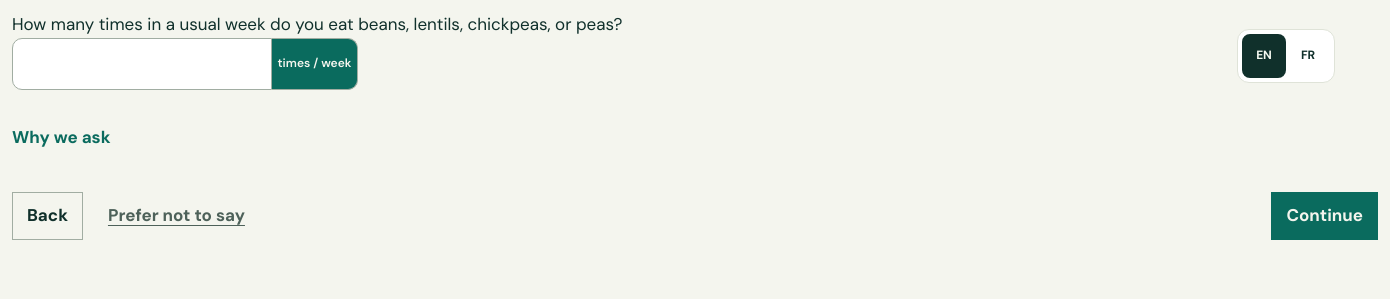
keeps an impossible diet_legumes answer on screen with a described error
The width and height of the screenshot is (1390, 299).
Type "-1" into the number field at [142, 64], box x1=12 y1=38 x2=272 y2=90
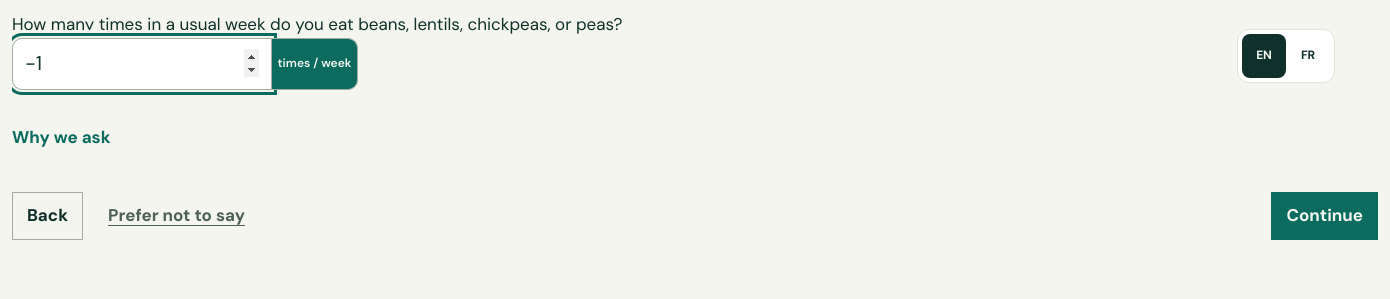
Click the button "Continue" at [1325, 216], box x1=1271 y1=192 x2=1378 y2=240
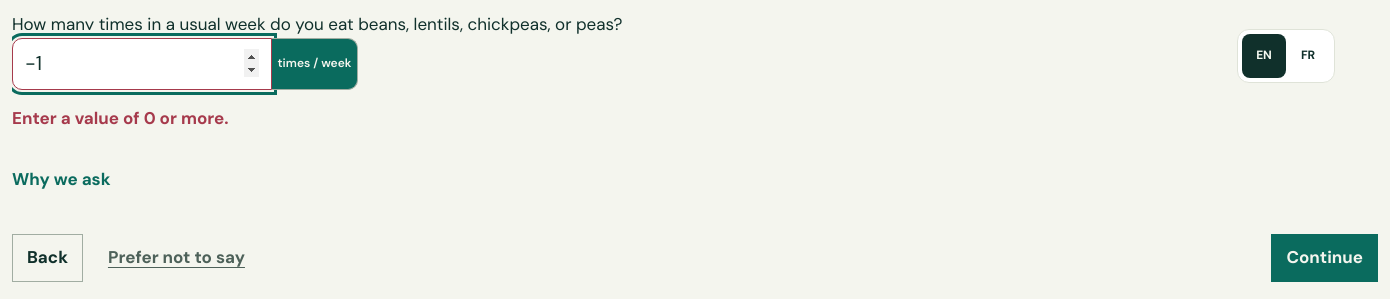
Now the message "Enter a value of 0 or more." is shown, box x1=12 y1=106 x2=229 y2=128
